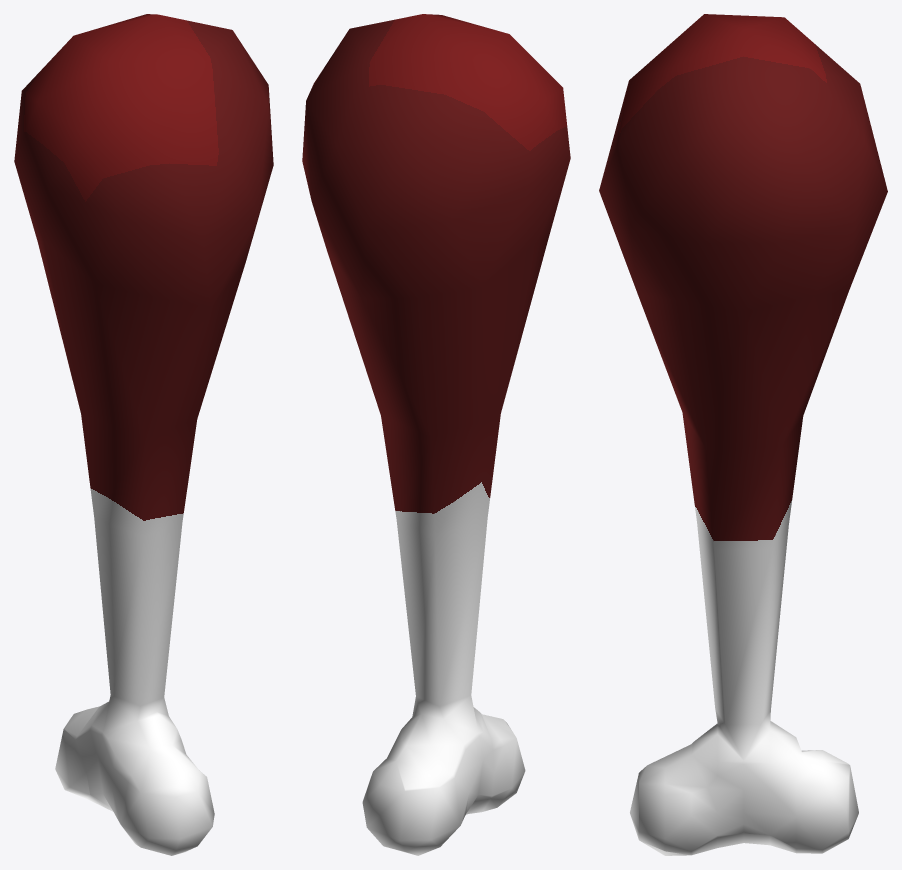
Rendered from Ham.obj.
The picture shows the model from 3 angles, left to right: view 1: azimuth 30°, elevation 25°; view 2: azimuth 150°, elevation 25°; view 3: azimuth 270°, elevation 25°; orthographic projection. The views are drawn at different scales.
Parts seen in each view (by area): view 1: Mball.003_Mesh; view 2: Mball.003_Mesh; view 3: Mball.003_Mesh.
Boxes of the visible parts, box(x1,y1,x2,y2) form: Mball.003_Mesh: box(14, 14, 273, 855); Mball.003_Mesh: box(302, 14, 570, 855); Mball.003_Mesh: box(599, 14, 887, 855).
Size of the model in its own units: 0.6201 by 2.01 by 0.6319.
